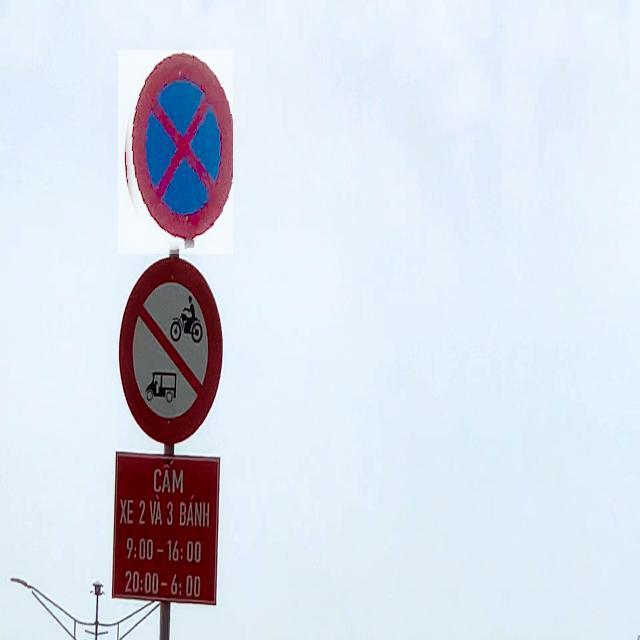P-130: (118, 50, 233, 254)
